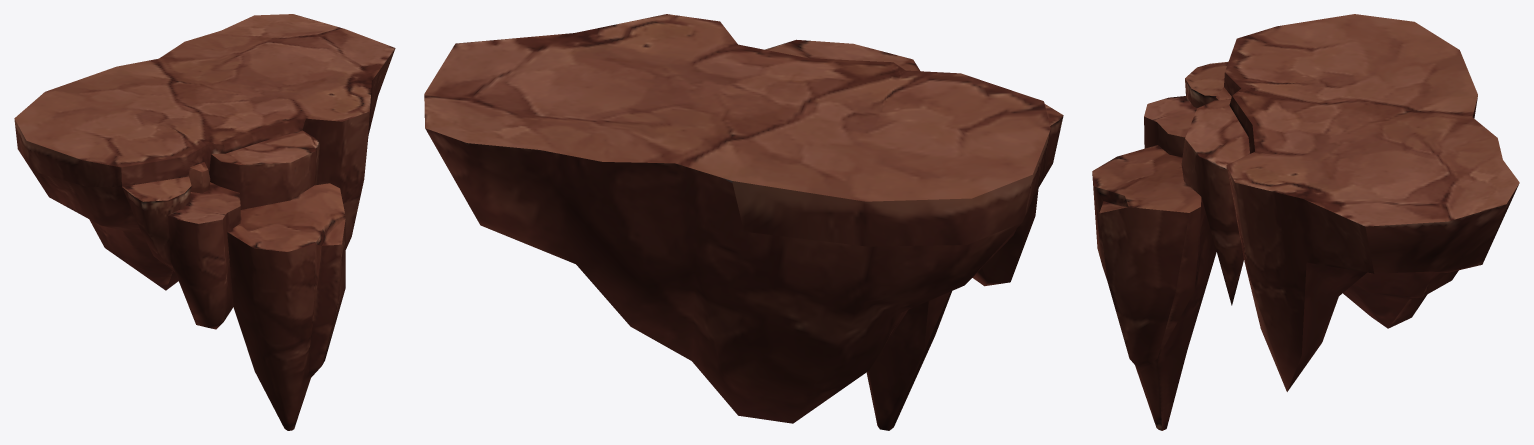
The model's file is BOSS_E_07.FBX.
3 renders of one model, left to right at view 1: azimuth 30°, elevation 25°; view 2: azimuth 150°, elevation 25°; view 3: azimuth 270°, elevation 25°, orthographic. The views are drawn at different scales.
Visible parts, largest first — view 1: BOSS_E_07; view 2: BOSS_E_07; view 3: BOSS_E_07.
Boxes of the visible parts, <box> form: BOSS_E_07: <box>14,14,395,430</box>; BOSS_E_07: <box>424,14,1063,430</box>; BOSS_E_07: <box>1092,14,1519,430</box>.
Size of the model in its own units: 9.38 by 6.5 by 8.05.
